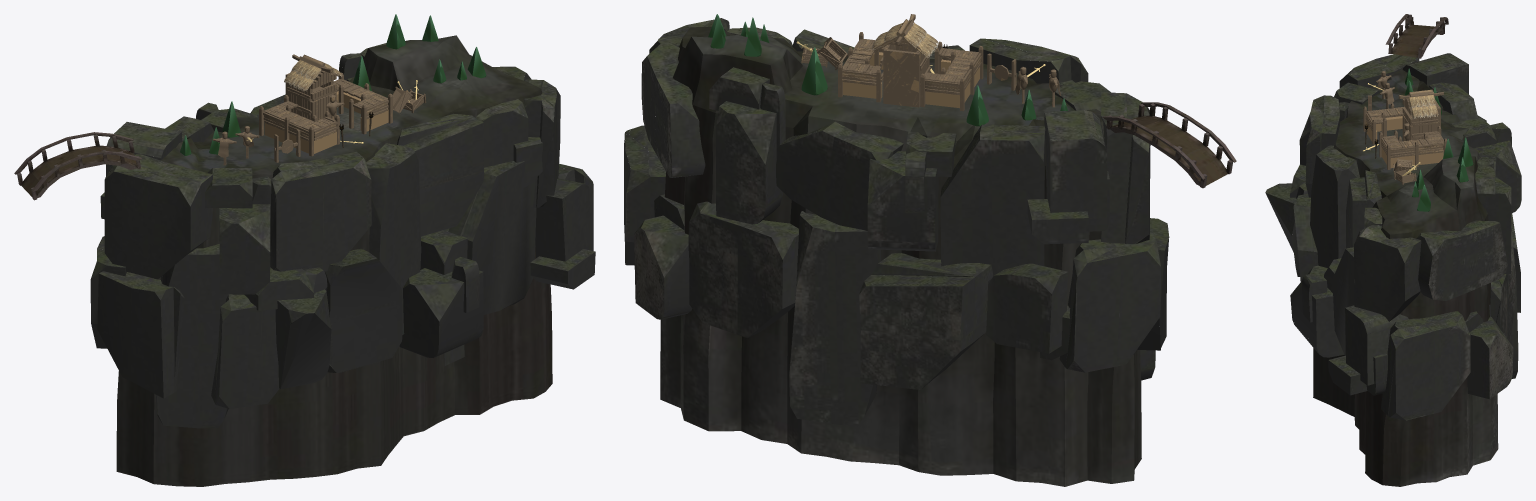
Rendered from barracks.glb.
The picture shows the model from 3 angles, left to right: view 1: azimuth 30°, elevation 25°; view 2: azimuth 150°, elevation 25°; view 3: azimuth 270°, elevation 25°; orthographic projection. The views are drawn at different scales.
Parts seen in each view (by area): view 1: barracks; view 2: barracks; view 3: barracks.
Boxes of the visible parts, x1=… form: barracks: x1=14, y1=14, x2=595, y2=486; barracks: x1=624, y1=14, x2=1236, y2=486; barracks: x1=1265, y1=14, x2=1521, y2=486.
Bounding box in the file's own units: 3.62 × 2.25 × 1.72.
12 materials, 10 textured.
